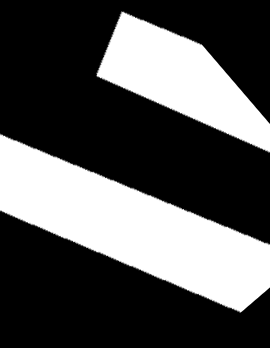parkingspot: (0, 134, 270, 313), (97, 12, 270, 152)
